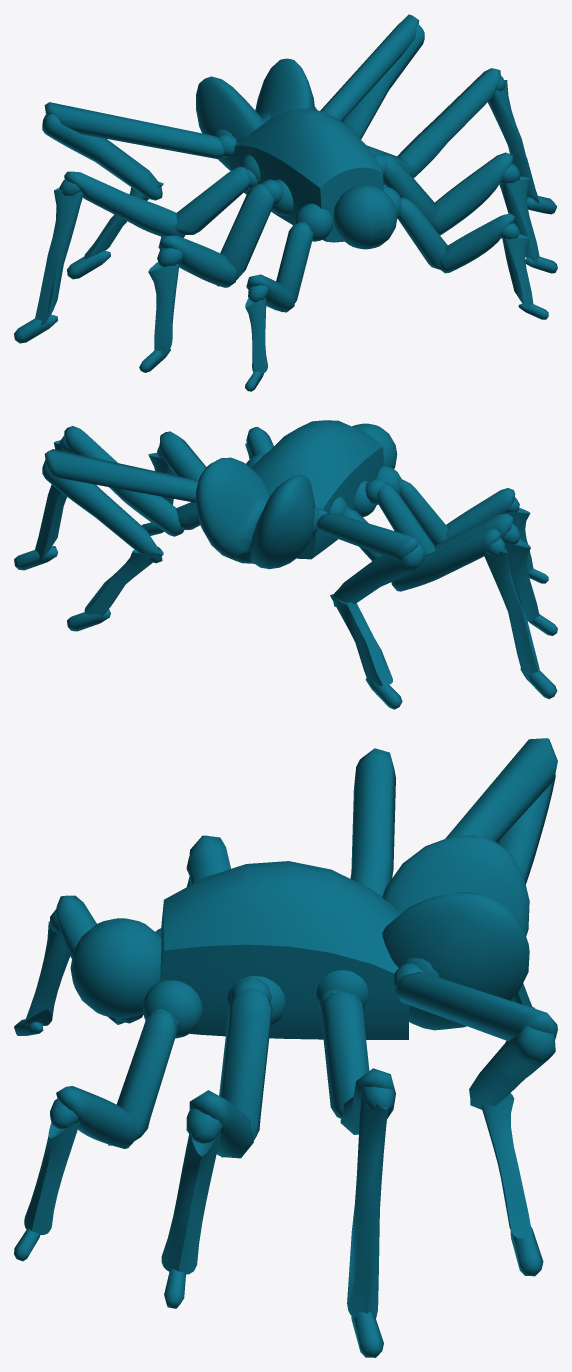
File: KikimoraStill.fbx
3 views of the same model, one above another, from view 1: azimuth 30°, elevation 25°; view 2: azimuth 150°, elevation 25°; view 3: azimuth 270°, elevation 25° (orthographic). The views are drawn at different scales.
Visible parts, largest first — view 1: Sphere008; view 2: Sphere008; view 3: Sphere008.
Boxes of the visible parts, left/top/right/bottom form: Sphere008: left=14, top=14, right=557, bottom=391; Sphere008: left=14, top=420, right=557, bottom=709; Sphere008: left=14, top=738, right=557, bottom=1357.
Size of the model in its own units: 499 by 163 by 278.
